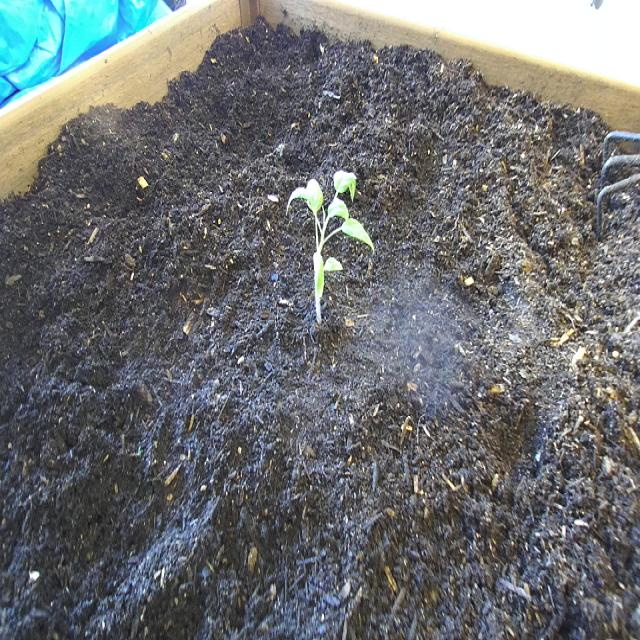Healthy: (282, 163, 380, 334)
